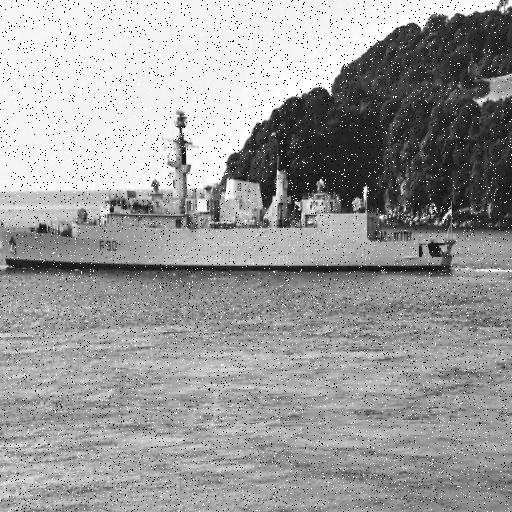Fragata: (1, 92, 458, 280)
